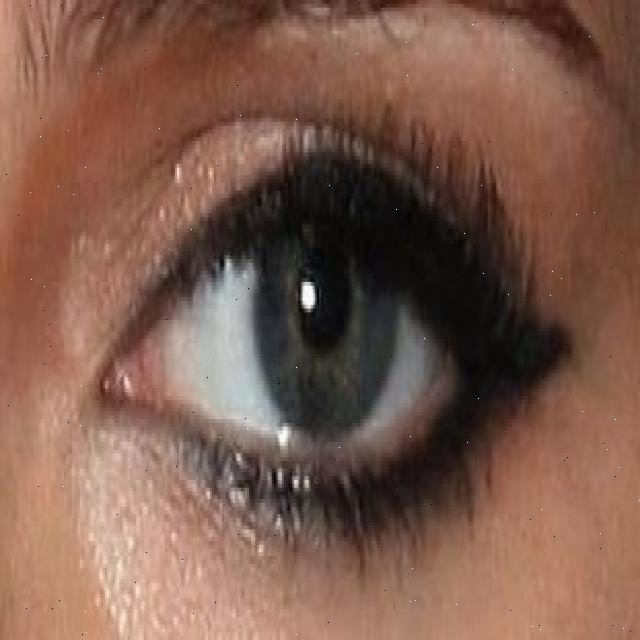Normal: (255, 177, 398, 446)
